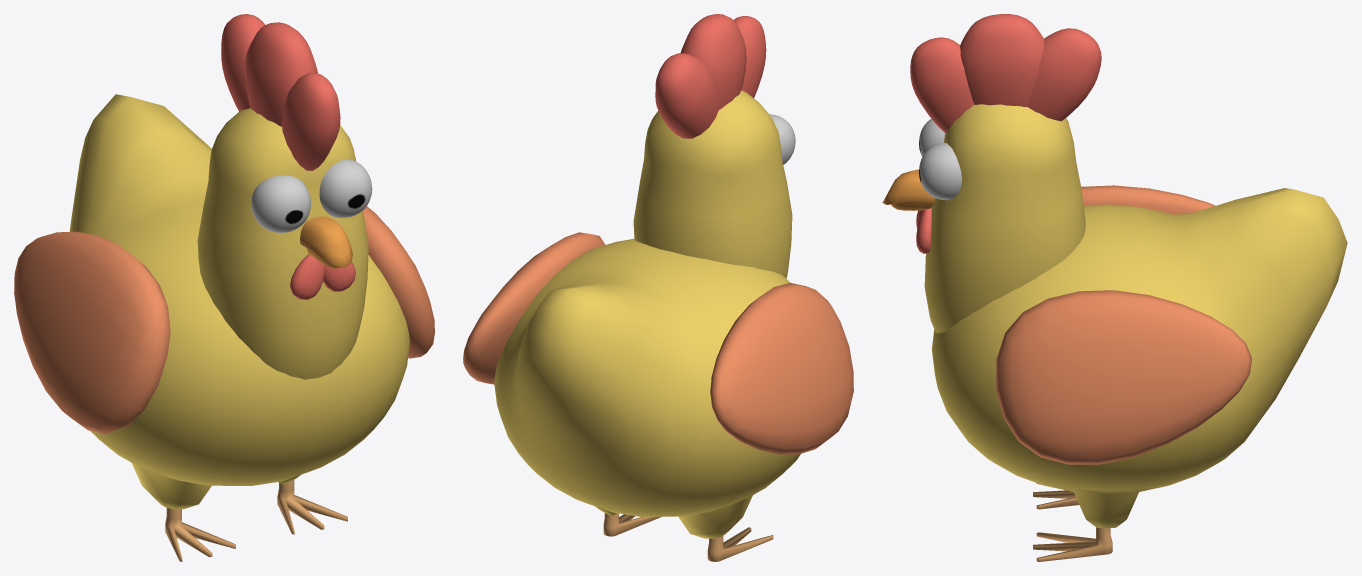
Rendered from chicken-joined.glb.
3 renders of one model, left to right at view 1: azimuth 30°, elevation 25°; view 2: azimuth 150°, elevation 25°; view 3: azimuth 270°, elevation 25°, orthographic. The views are drawn at different scales.
Visible parts, largest first — view 1: Cube; view 2: Cube; view 3: Cube.
Boxes of the visible parts, bbox=[...] form: Cube: bbox=[14, 14, 434, 561]; Cube: bbox=[463, 14, 853, 561]; Cube: bbox=[882, 14, 1347, 561].
Size of the model in its own units: 0.6577 by 0.9577 by 0.7933.
6 materials, 1 textured.
